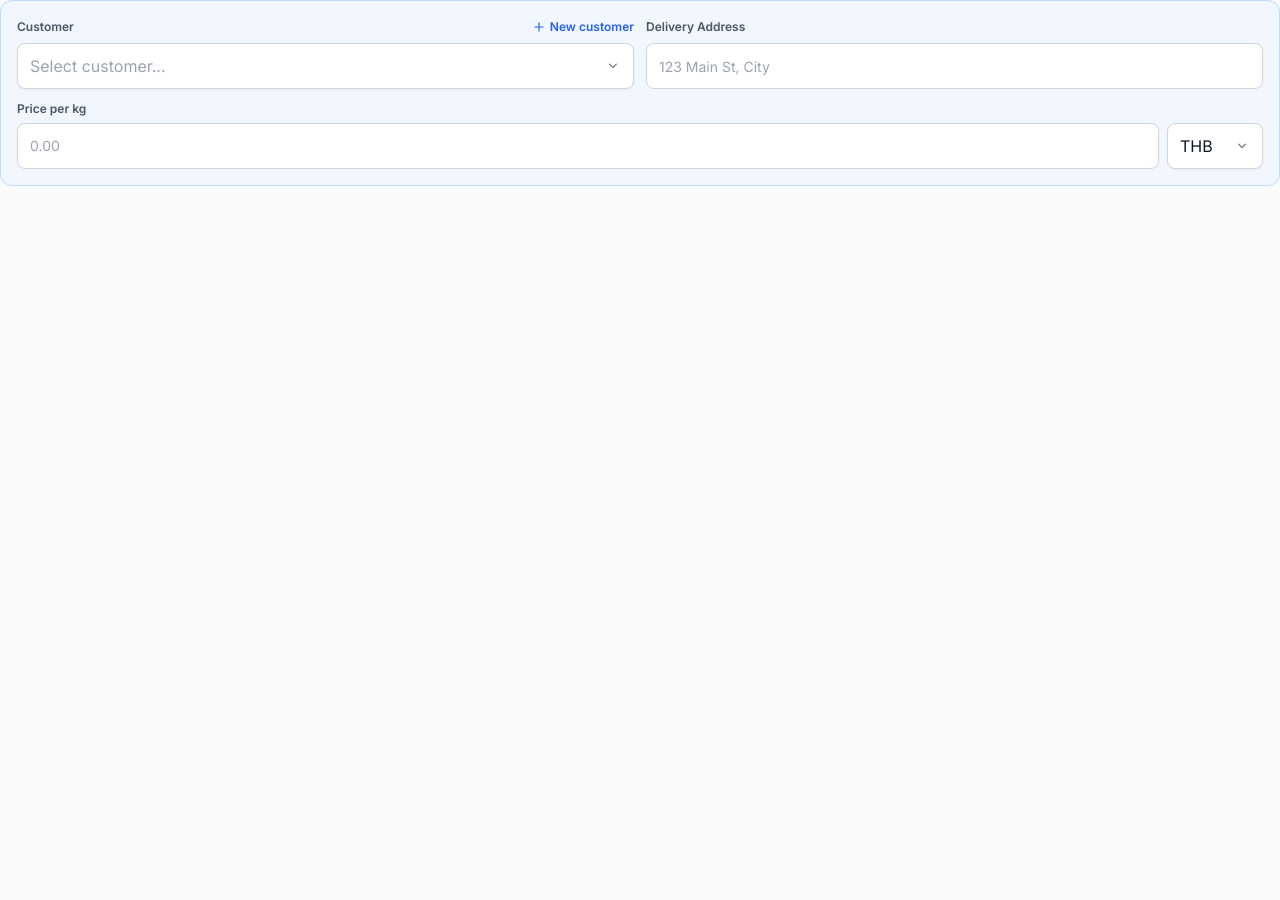
Test: Withdraw Stock: Edit customer › leaves everything as it was when the save fails
The image size is (1280, 900).
Click the button "Select customer..." at (98, 66), box [17, 43, 634, 89]
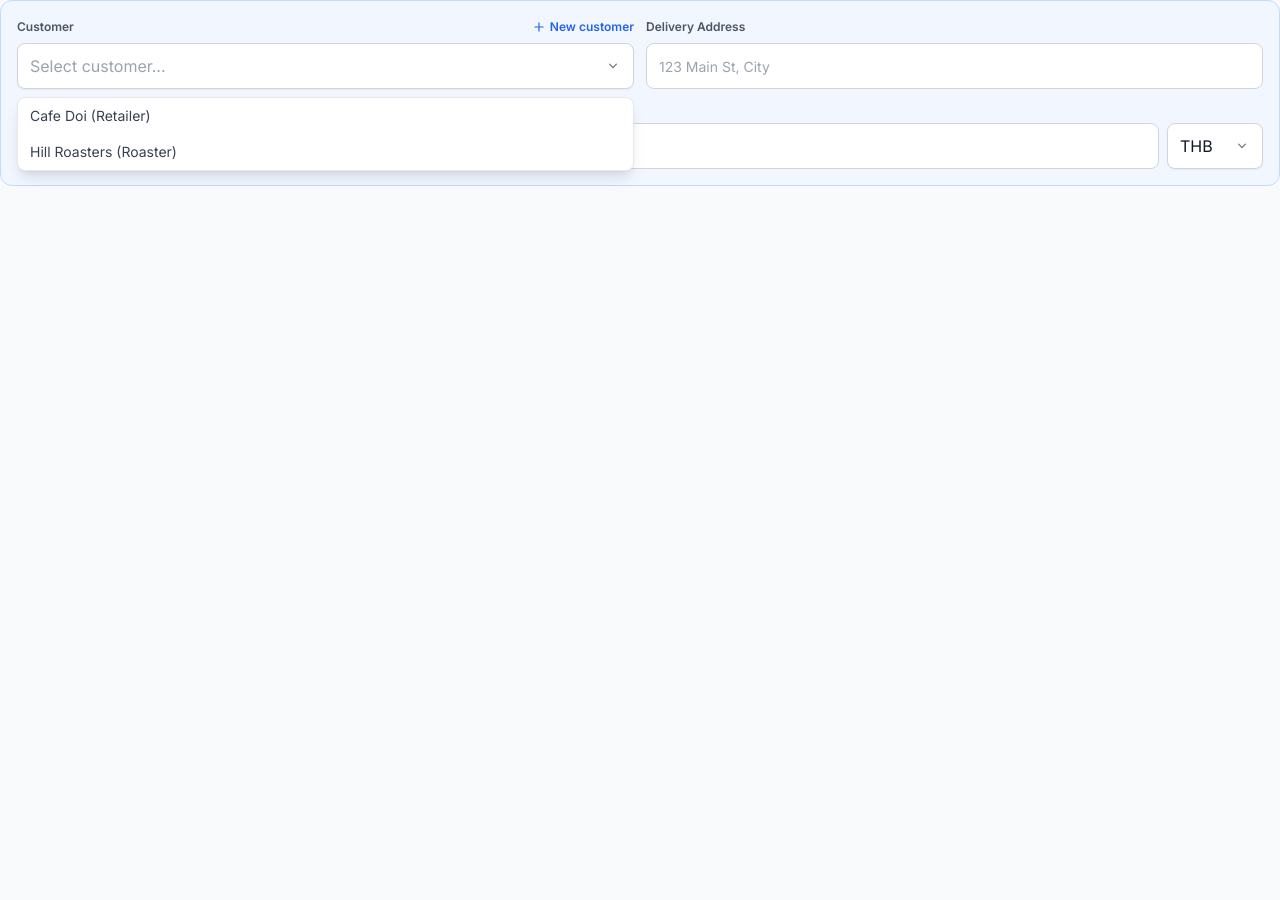
Click the button "Cafe Doi (Retailer)" at (90, 116), box [18, 98, 633, 134]
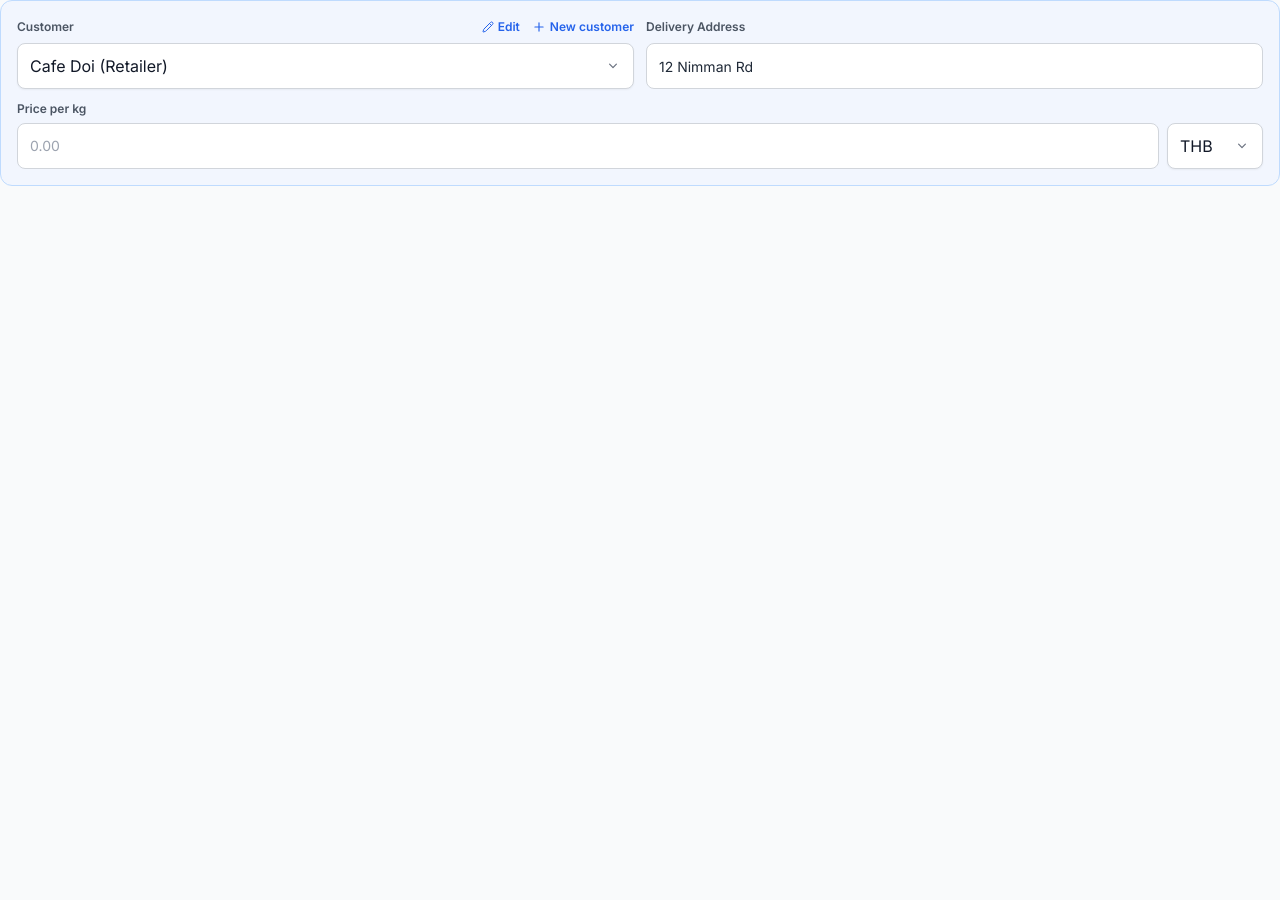
Click the button with aria-label "Edit customer Cafe Doi" at (501, 27), box [482, 19, 520, 35]
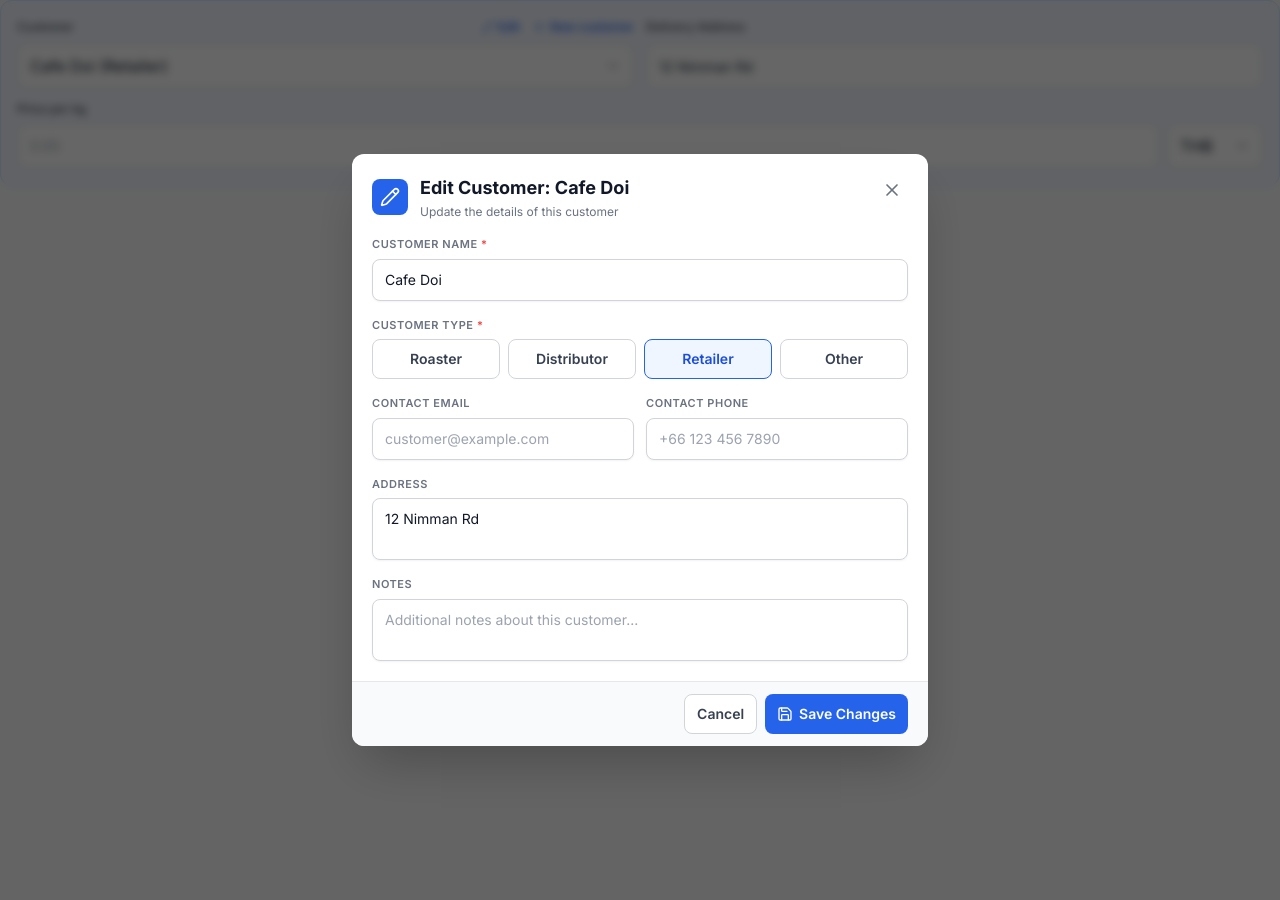
Replace the text in the field labelled "Customer Name *" with "Typo" at (640, 280), box [372, 259, 908, 301]
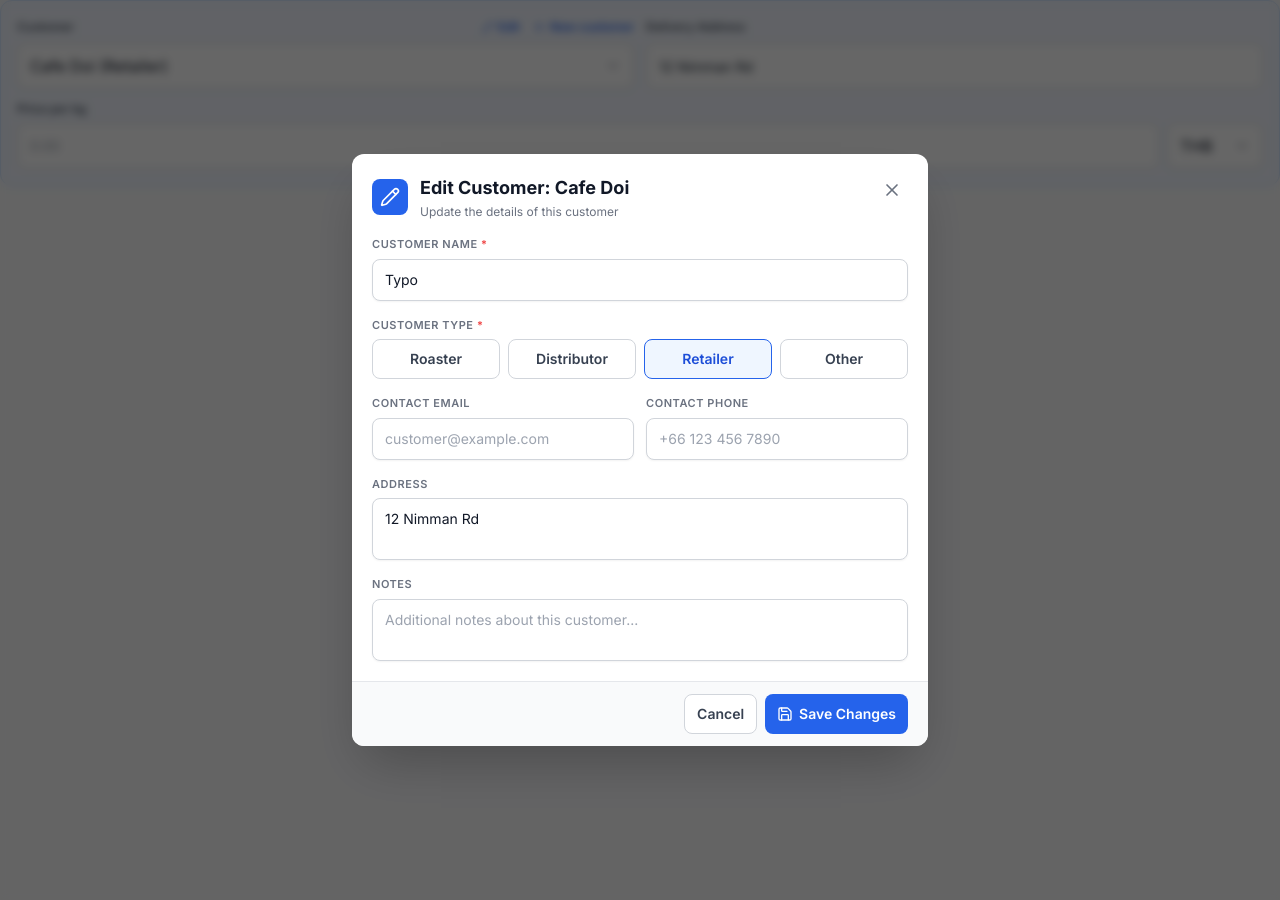
Click the button "Save Changes" at (837, 714), box [765, 694, 908, 734]
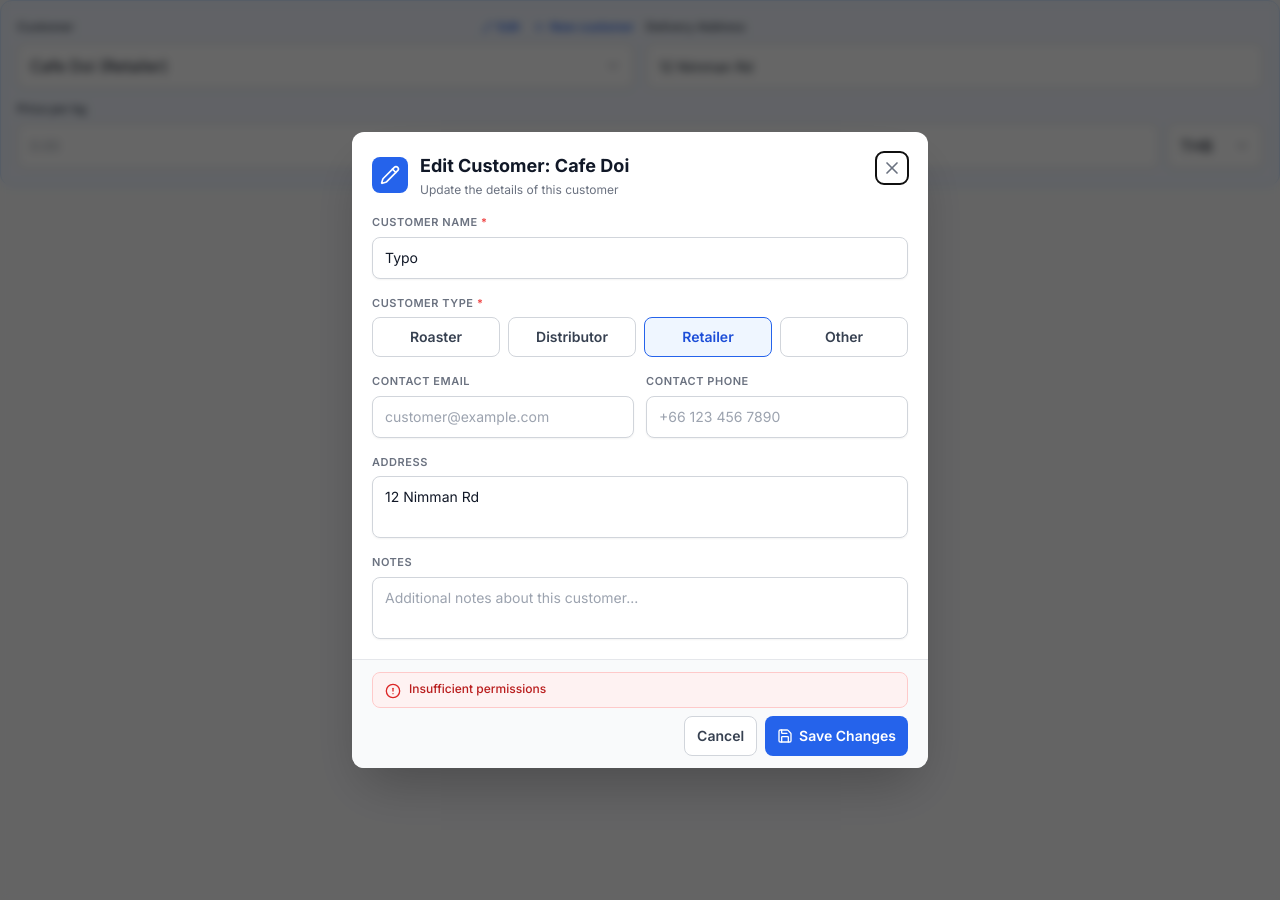
Expected: the button "Cafe Doi (Retailer)" is shown, [17, 43, 634, 89]
Expected: the text "Insufficient permissions" is shown, [409, 681, 546, 696]
